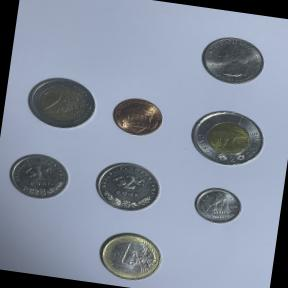1 Euro: (91, 225, 168, 287)
2 Euro: (18, 69, 104, 137)
Canda-10cent-: (188, 181, 248, 231)
Canda-2Dollar-: (181, 98, 273, 176)
Croatia-2Kune-: (86, 154, 168, 218)
US-1cent-: (106, 91, 170, 145)
US-25cent-: (192, 28, 271, 94)
